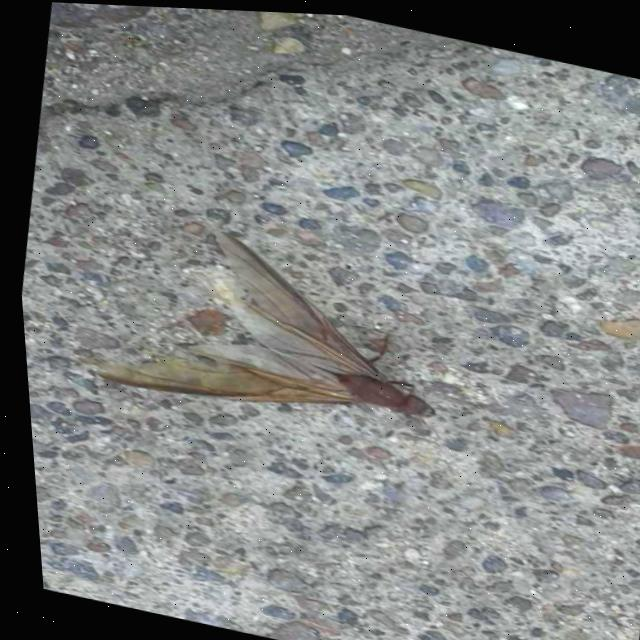Alive-Female-Alate: (79, 206, 455, 450)
